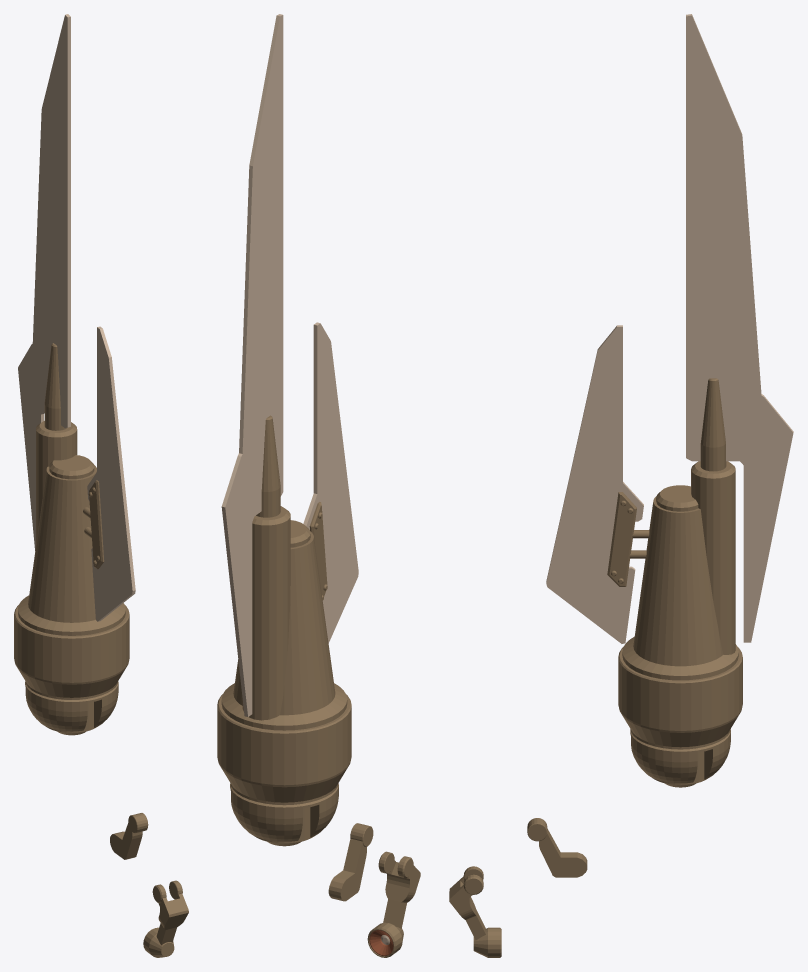
The model's file is Ceptobarge.dae.
The picture shows the model from 3 angles, left to right: view 1: azimuth 30°, elevation 25°; view 2: azimuth 150°, elevation 25°; view 3: azimuth 270°, elevation 25°; orthographic projection. The views are drawn at different scales.
Visible parts, largest first — view 1: CeptobargeChassis, CeptobargeArm2, CeptobargeArm1; view 2: CeptobargeChassis, CeptobargeArm2, CeptobargeArm1; view 3: CeptobargeChassis, CeptobargeArm2, CeptobargeArm1.
Part boxes in pixels (x1=…): CeptobargeChassis: x1=14, y1=14, x2=135, y2=735; CeptobargeArm2: x1=143, y1=880, x2=188, y2=957; CeptobargeArm1: x1=110, y1=813, x2=148, y2=859; CeptobargeChassis: x1=217, y1=14, x2=358, y2=846; CeptobargeArm2: x1=367, y1=851, x2=420, y2=957; CeptobargeArm1: x1=328, y1=823, x2=373, y2=901; CeptobargeChassis: x1=546, y1=14, x2=793, y2=787; CeptobargeArm2: x1=449, y1=866, x2=501, y2=957; CeptobargeArm1: x1=527, y1=818, x2=587, y2=877.
Size of the model in its own units: 5.56 by 15.36 by 46.41.
